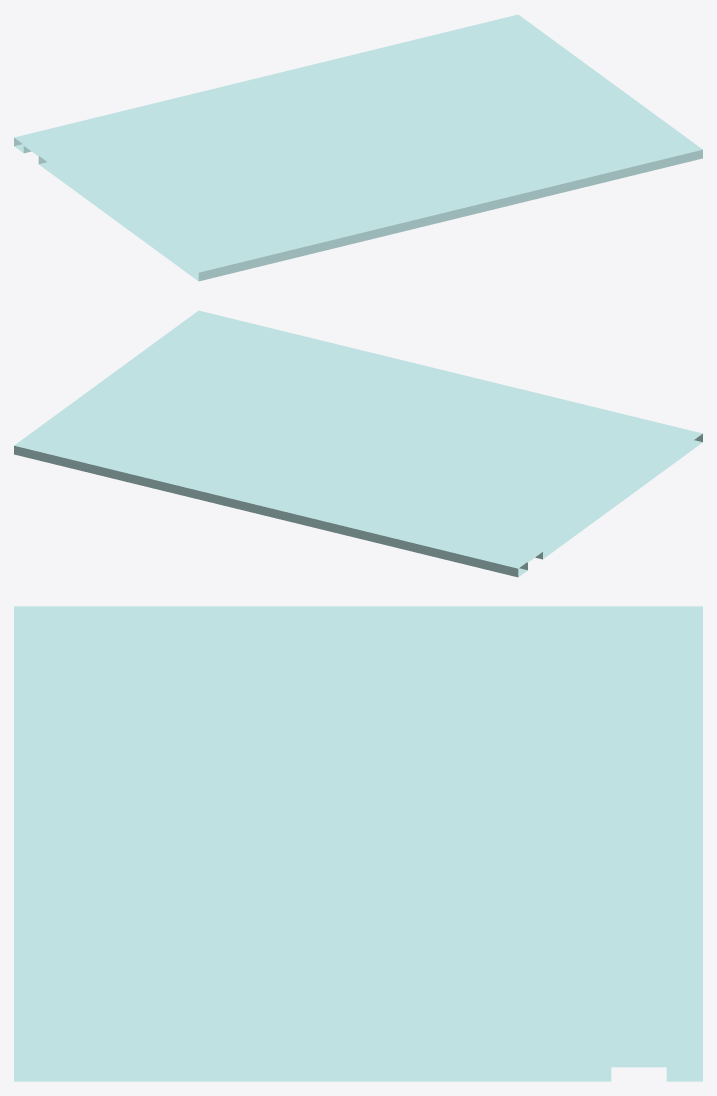
Rendered from KTCH_ELIX_Shelve_Light_Mid_60_40_1.FBX.
3 views of the same model, one above another, from view 1: azimuth 30°, elevation 25°; view 2: azimuth 150°, elevation 25°; view 3: azimuth 270°, elevation 25° (orthographic). The views are drawn at different scales.
Visible parts, largest first — view 1: KTCH_ELIX_Shelve_Light_Mid_60_40_1; view 2: KTCH_ELIX_Shelve_Light_Mid_60_40_1; view 3: KTCH_ELIX_Shelve_Light_Mid_60_40_1.
Boxes of the visible parts, x1,y1,x2,y2 form: KTCH_ELIX_Shelve_Light_Mid_60_40_1: [14, 14, 702, 281]; KTCH_ELIX_Shelve_Light_Mid_60_40_1: [14, 310, 702, 577]; KTCH_ELIX_Shelve_Light_Mid_60_40_1: [14, 606, 702, 1081].
Bounding box in the file's own units: 60 × 38.06 × 1.
